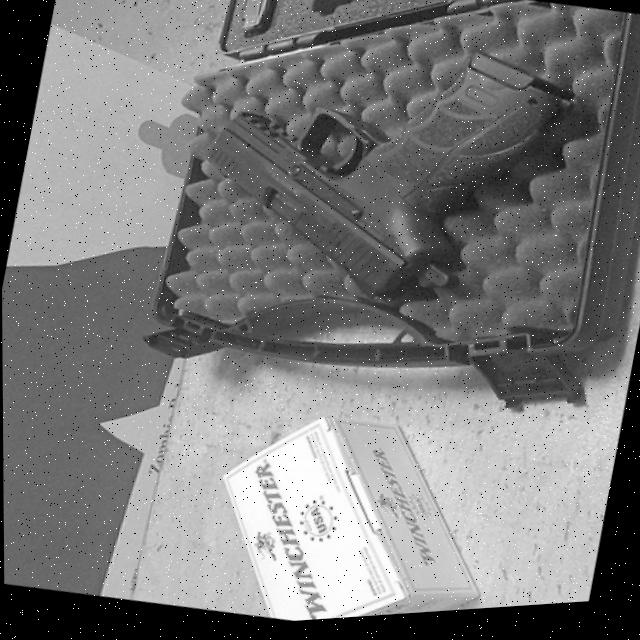pistol: (187, 5, 575, 341)
